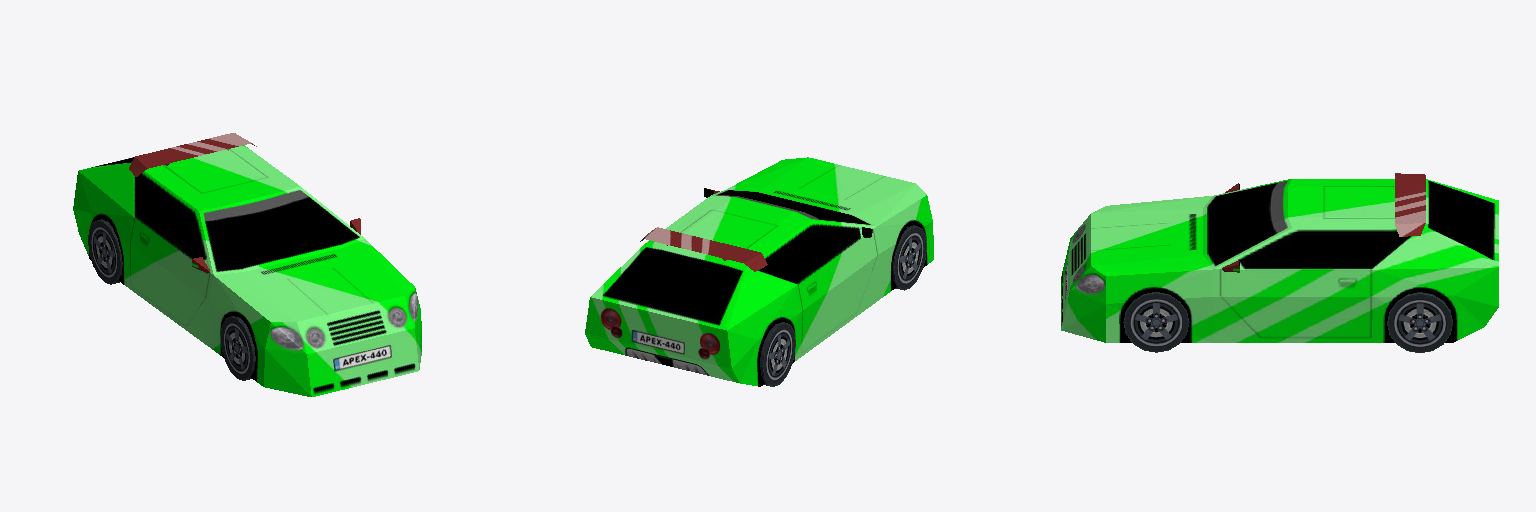
The picture shows the model from 3 angles: view 1: azimuth 30°, elevation 25°; view 2: azimuth 150°, elevation 25°; view 3: azimuth 270°, elevation 25°; orthographic projection.
Parts seen in each view (by area): view 1: car; view 2: car; view 3: car.
Boxes of the visible parts, box(x1,y1,x2,y2) form: car: box(73, 133, 421, 396); car: box(585, 157, 933, 386); car: box(1061, 173, 1498, 352).
Bounding box in the file's own units: 1.99 × 1.31 × 4.49.
Materials: 1 (1 with a texture image).